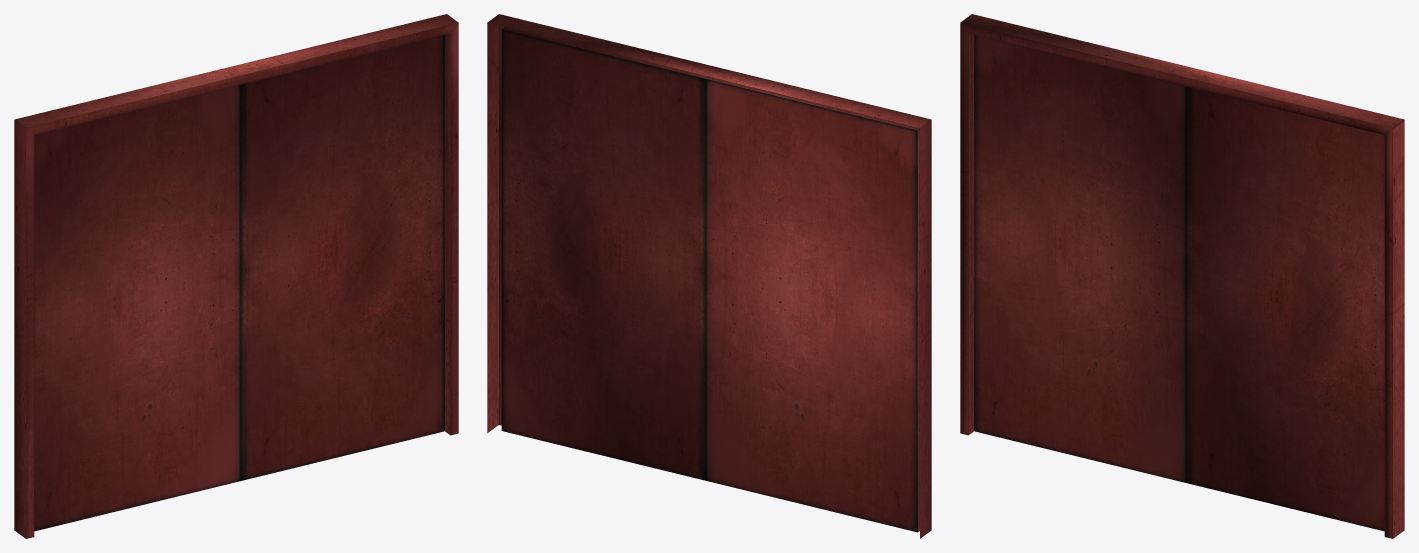
The model's file is East_Berlin-Door.fbx.
3 renders of one model, left to right at view 1: azimuth 30°, elevation 25°; view 2: azimuth 150°, elevation 25°; view 3: azimuth 330°, elevation 25°, orthographic.
Parts seen in each view (by area): view 1: Cube.001; view 2: Cube.001; view 3: Cube.001.
Part boxes in pixels (x1,y1,x2,y2): Cube.001: (14,14,458,538); Cube.001: (487,14,931,538); Cube.001: (960,14,1404,538).
Size of the model in its own units: 586 by 531 by 27.58.
